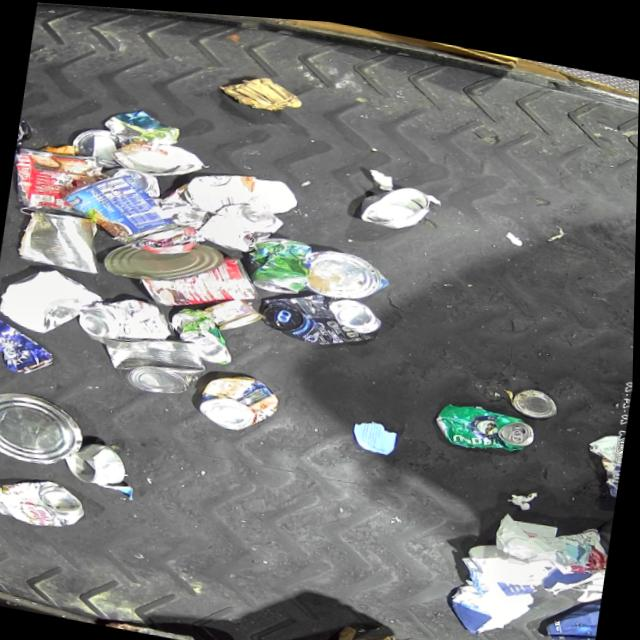can: (57, 161, 186, 252), (138, 235, 265, 318), (261, 277, 386, 349), (98, 321, 211, 397), (103, 223, 225, 290), (0, 383, 92, 470), (11, 140, 103, 217), (78, 286, 177, 352), (17, 203, 108, 273), (435, 392, 541, 451), (198, 363, 283, 433), (0, 468, 91, 532), (197, 192, 287, 255), (306, 239, 394, 301), (110, 132, 208, 181), (246, 226, 315, 293), (358, 171, 435, 228), (167, 302, 239, 362), (0, 314, 63, 378), (63, 435, 131, 487), (202, 288, 265, 333), (70, 121, 126, 167), (108, 616, 204, 640), (102, 162, 165, 195), (511, 376, 561, 412)
